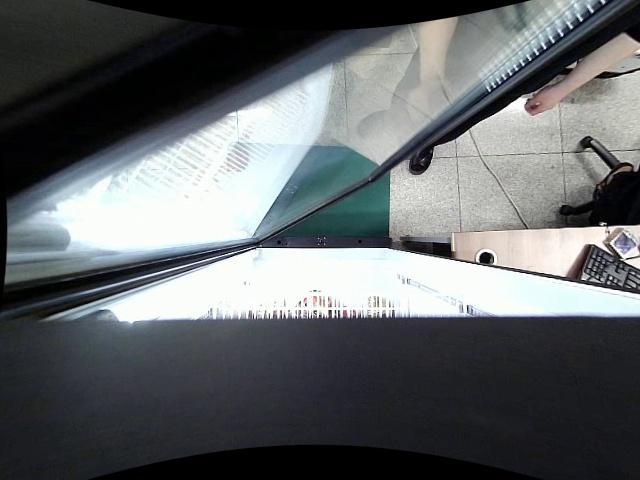00_hand: (523, 84, 563, 116)
